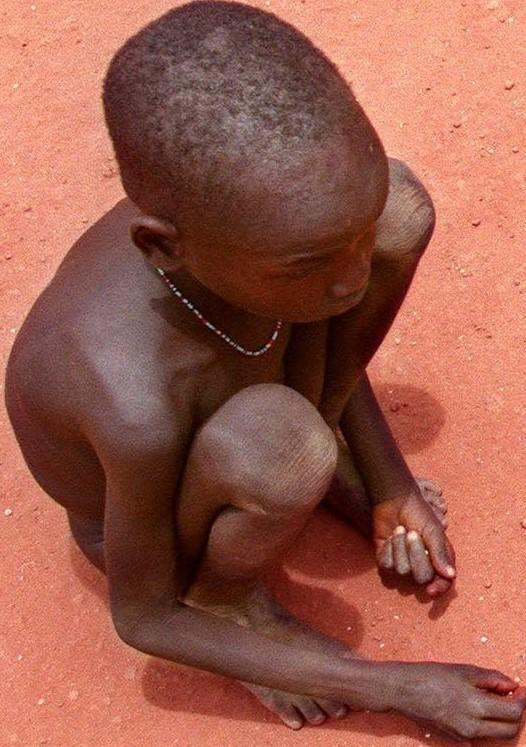Stunting: (110, 42, 442, 362)
